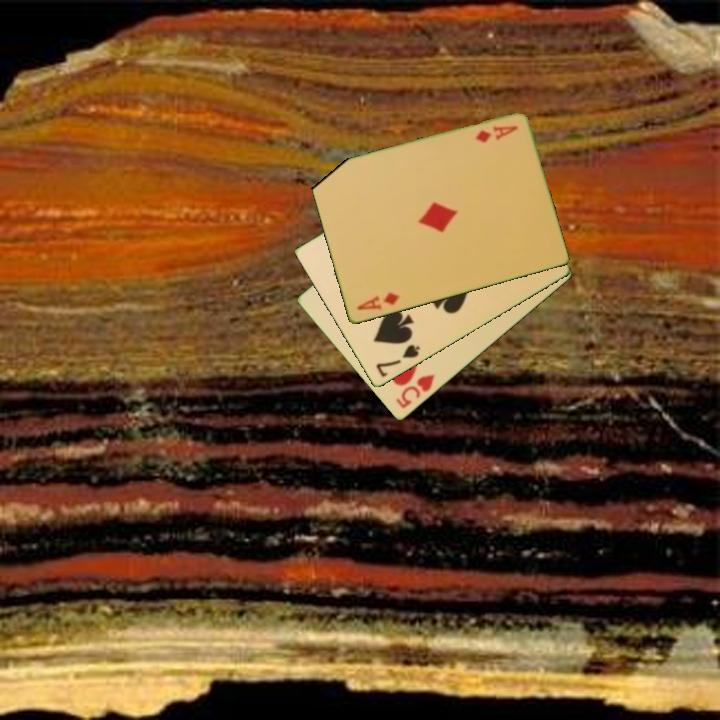5h: (392, 371, 438, 412)
7s: (372, 341, 423, 381)
Ad: (353, 289, 402, 314), (471, 122, 521, 146)
